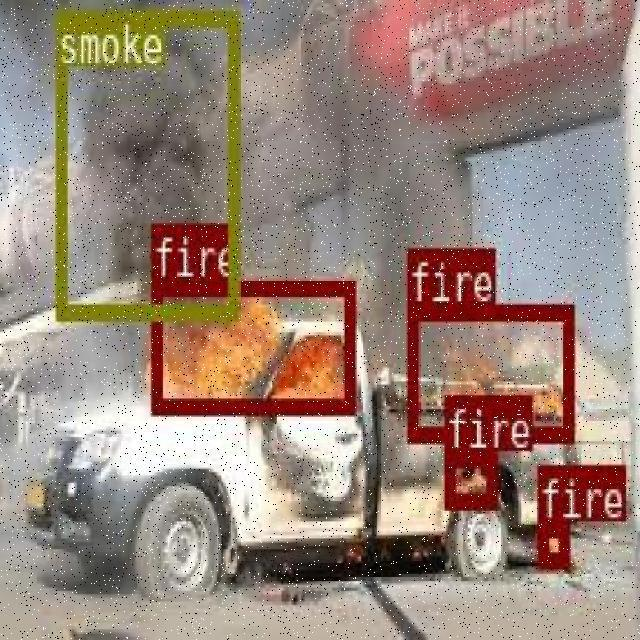Smoke: (17, 0, 133, 254)
